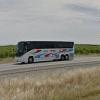buses: (13, 39, 75, 64)
